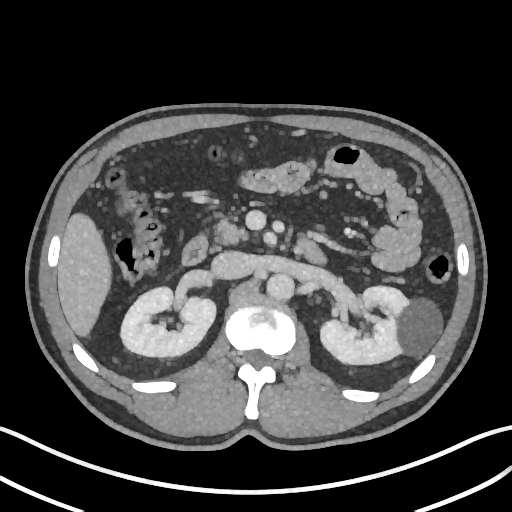Lesion: (391, 290, 448, 362)
